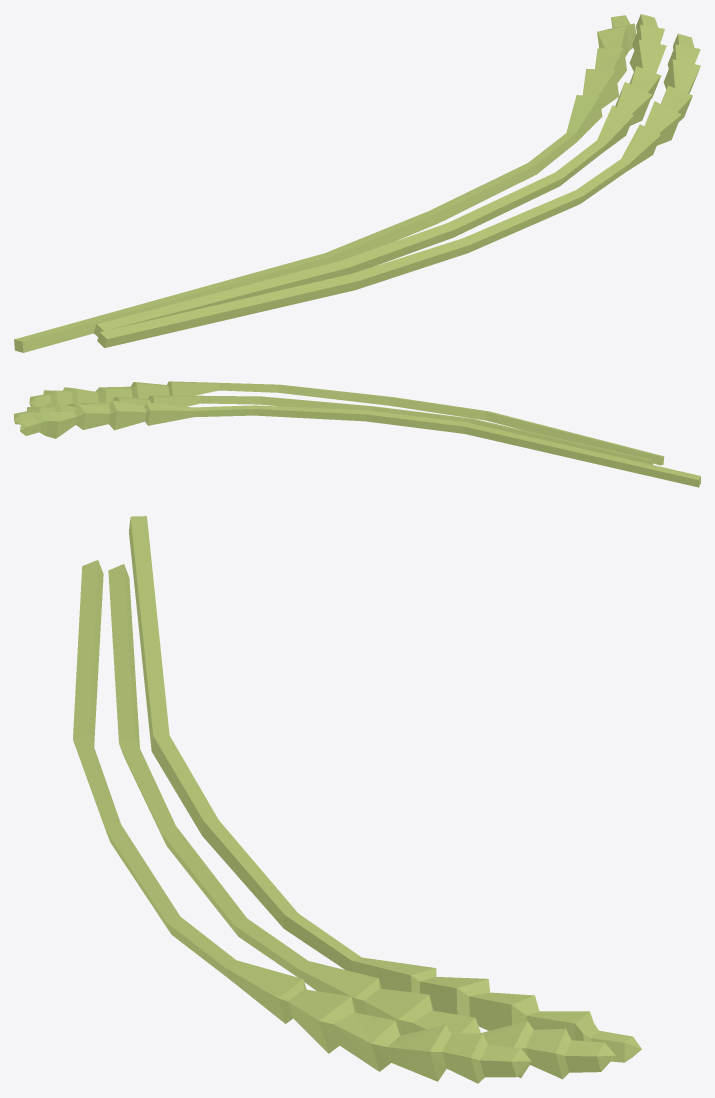
The model's file is Rice_Crop.glb.
3 views of the same model, one above another, from view 1: azimuth 30°, elevation 25°; view 2: azimuth 150°, elevation 25°; view 3: azimuth 270°, elevation 25° (orthographic). The views are drawn at different scales.
Parts seen in each view (by area): view 1: Rice_Crop; view 2: Rice_Crop; view 3: Rice_Crop.
Part boxes in pixels (<box>): Rice_Crop: <box>14,14,700,352</box>; Rice_Crop: <box>14,381,700,487</box>; Rice_Crop: <box>73,516,641,1083</box>.
Bounding box in the file's own units: 0.9063 × 0.0457 × 0.3868.
